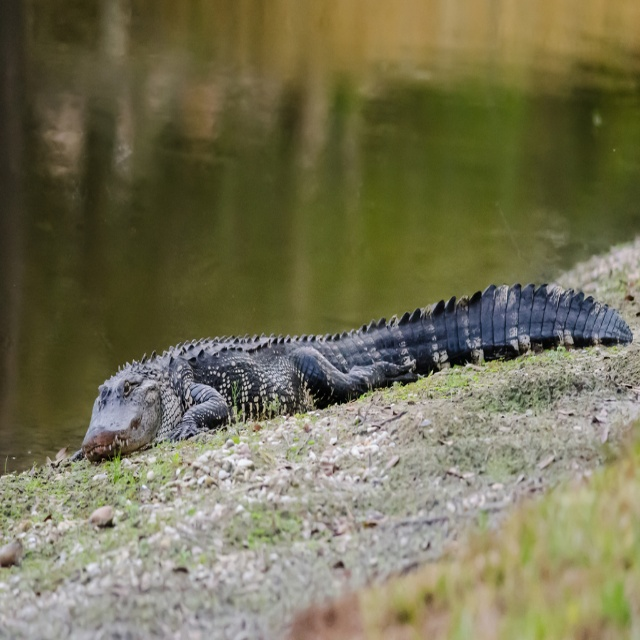Crocodile: (82, 283, 633, 463)
